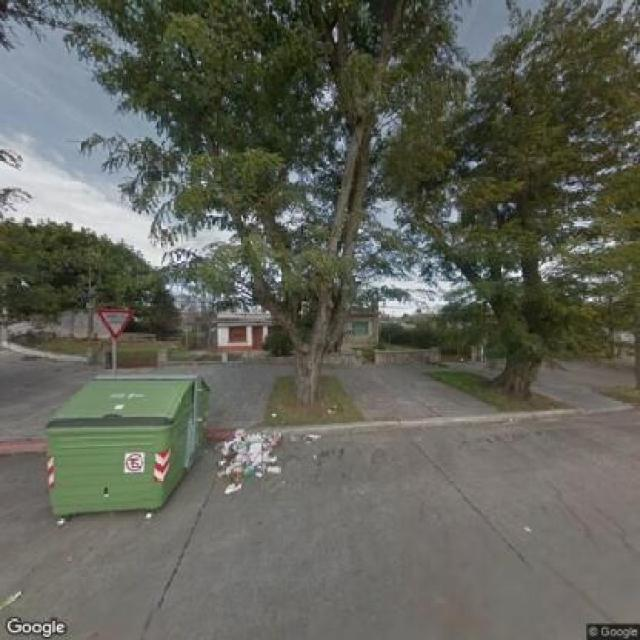garbage: (213, 429, 282, 494)
